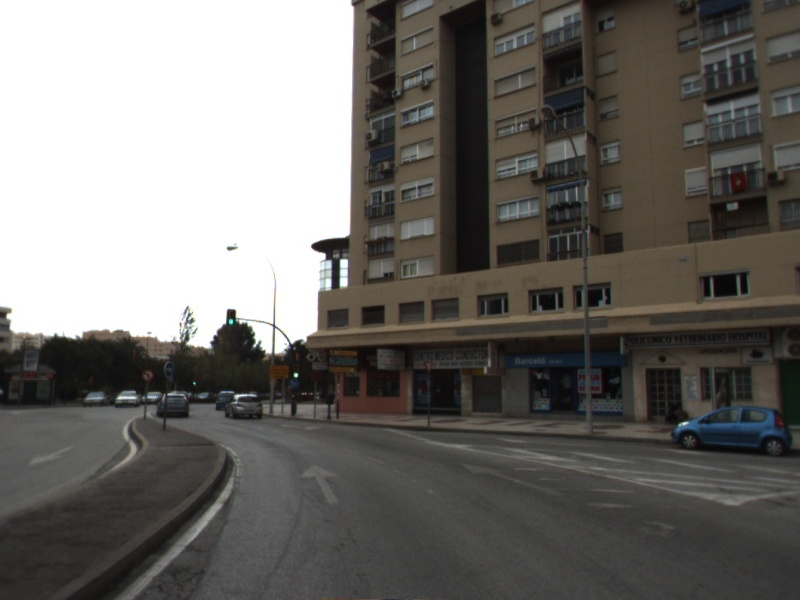STRAIGHT: (458, 460, 567, 498), (297, 462, 343, 506)
